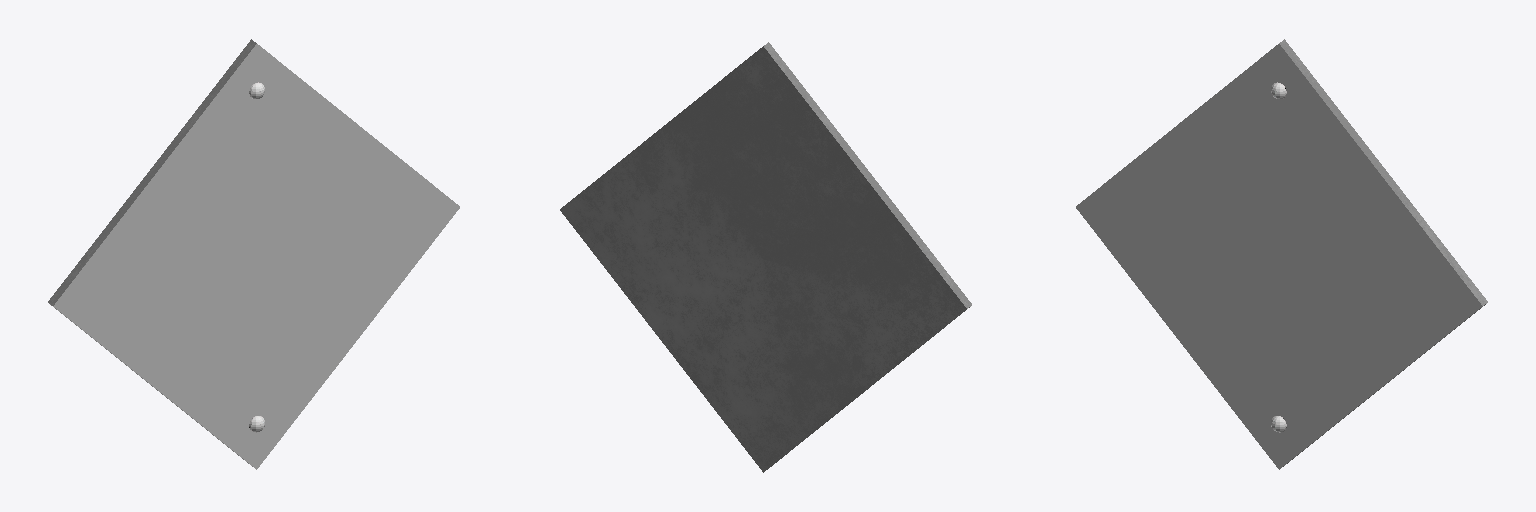
The picture shows the model from 3 angles: view 1: azimuth 30°, elevation 25°; view 2: azimuth 150°, elevation 25°; view 3: azimuth 330°, elevation 25°; orthographic projection.
Parts seen in each view (by area): view 1: Ver._Board; view 2: Ver._Board; view 3: Ver._Board.
Boxes of the visible parts, box(x1,y1,x2,y2) form: Ver._Board: box(48, 39, 459, 469); Ver._Board: box(560, 42, 971, 472); Ver._Board: box(1076, 39, 1487, 469).
Bounding box in the file's own units: 0.3536 × 0.3536 × 0.014.
3 materials, 1 textured.